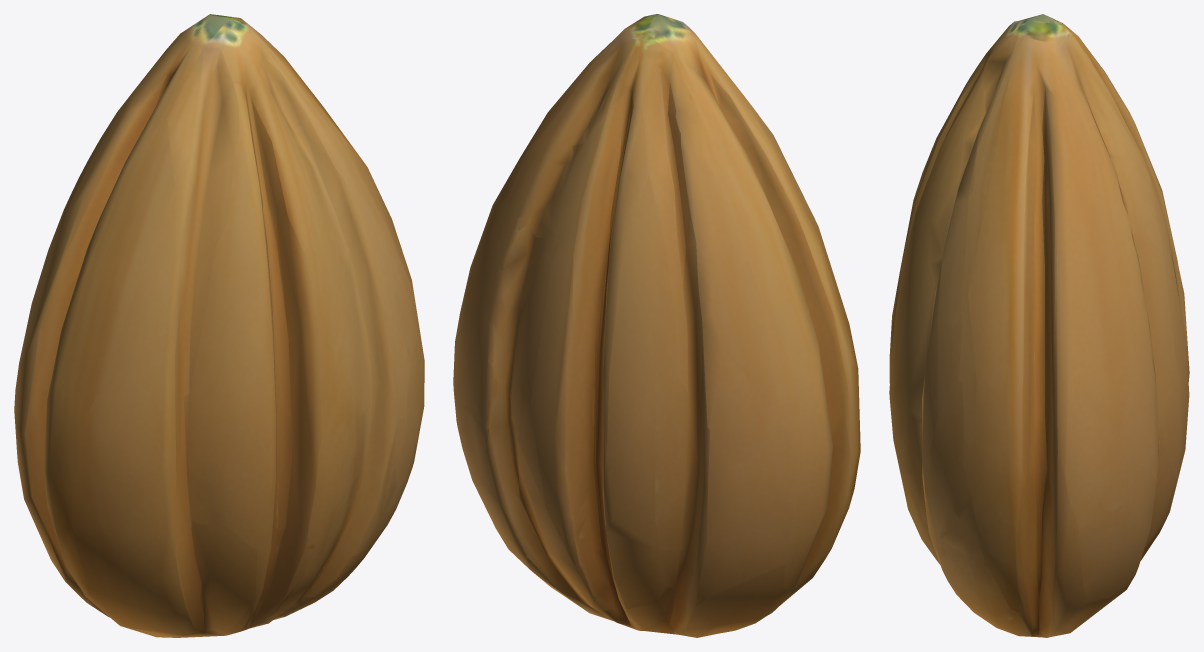
File: Seed.glb
3 renders of one model, left to right at view 1: azimuth 30°, elevation 25°; view 2: azimuth 150°, elevation 25°; view 3: azimuth 270°, elevation 25°, orthographic. The views are drawn at different scales.
Size of the model in its own units: 1.27 by 1.98 by 0.9036.
Materials: 1 (1 with a texture image).
